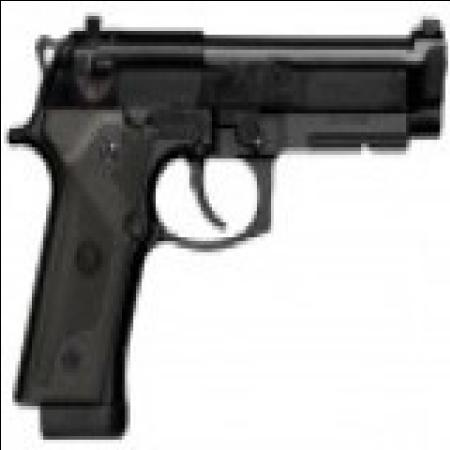Pistol: (14, 3, 447, 438)
